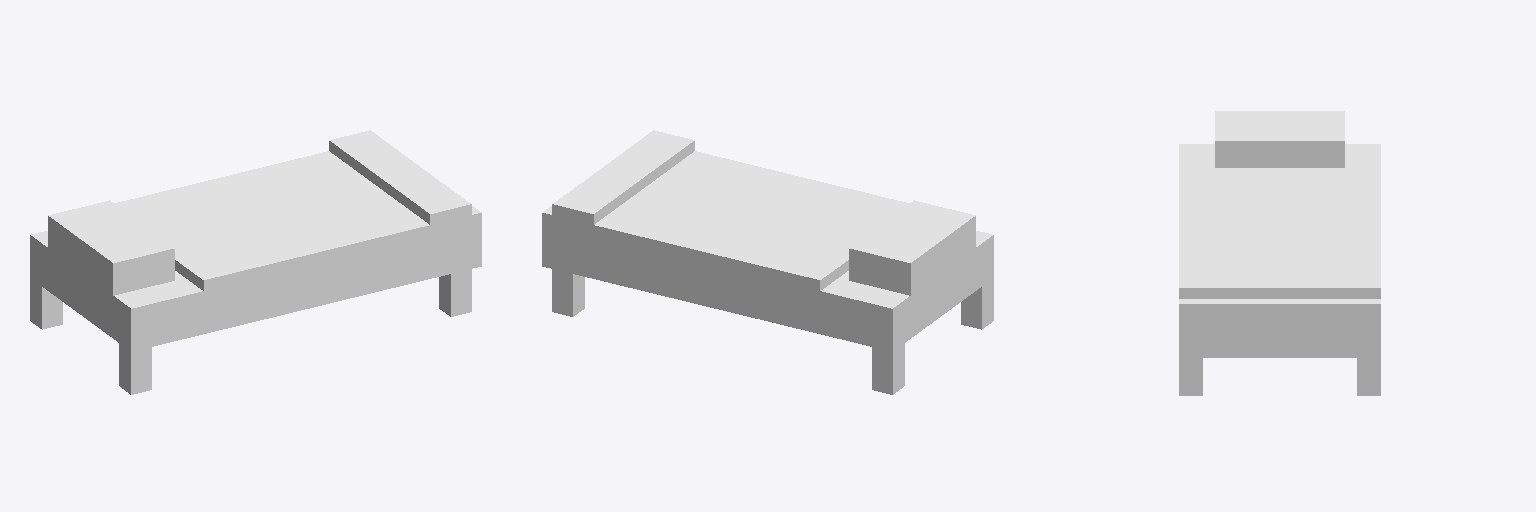
File: modern-bed.obj
3 views of the same model, side by side, from view 1: azimuth 30°, elevation 25°; view 2: azimuth 150°, elevation 25°; view 3: azimuth 270°, elevation 25° (orthographic).
Parts seen in each view (by area): view 1: modern:bed; view 2: modern:bed; view 3: modern:bed.
Boxes of the visible parts, box(x1,y1,x2,y2) form: modern:bed: box(30, 130, 481, 394); modern:bed: box(542, 130, 993, 394); modern:bed: box(1179, 111, 1380, 395).
Bounding box in the file's own units: 34 × 11 × 17.